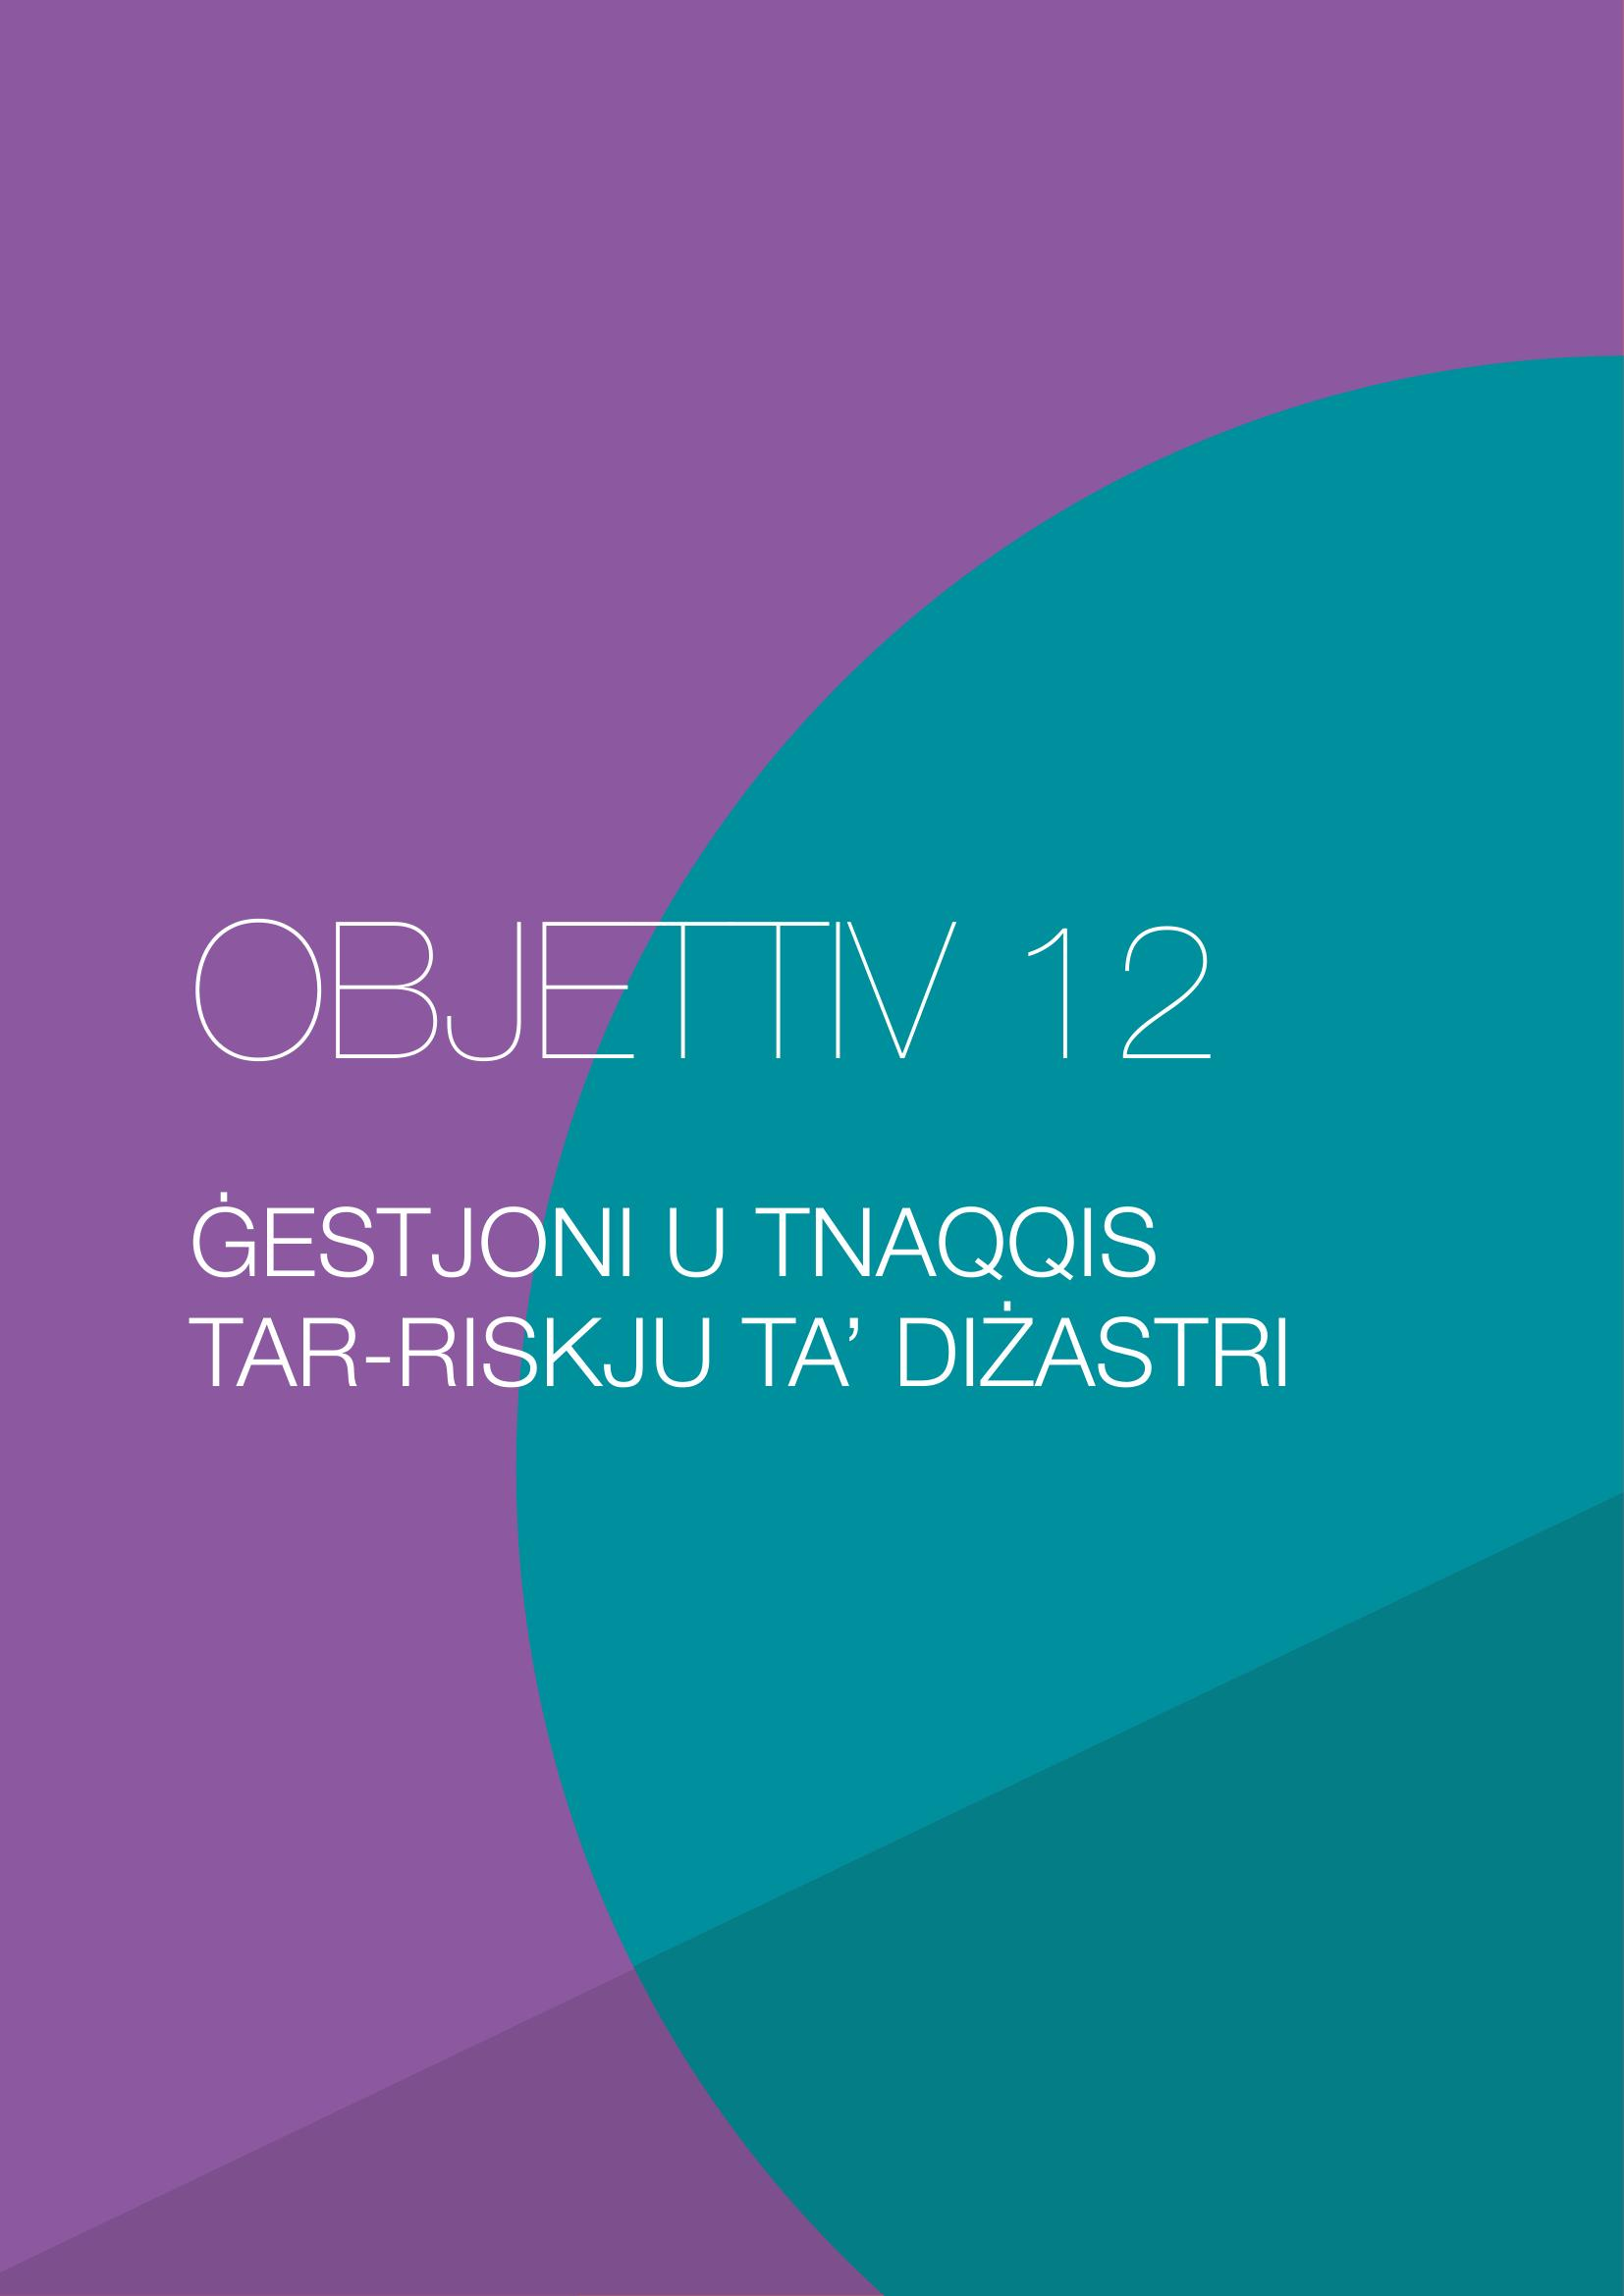text: (158, 898, 1343, 1433)
